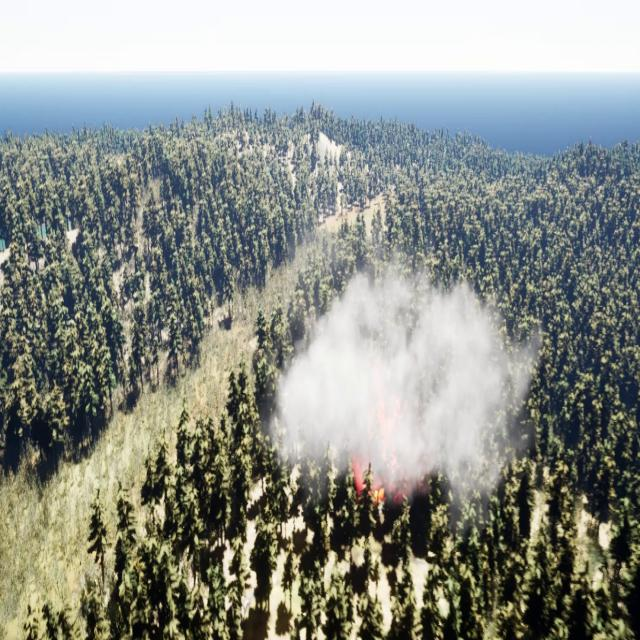fire: (350, 377, 408, 499)
smoke: (264, 264, 548, 514)
